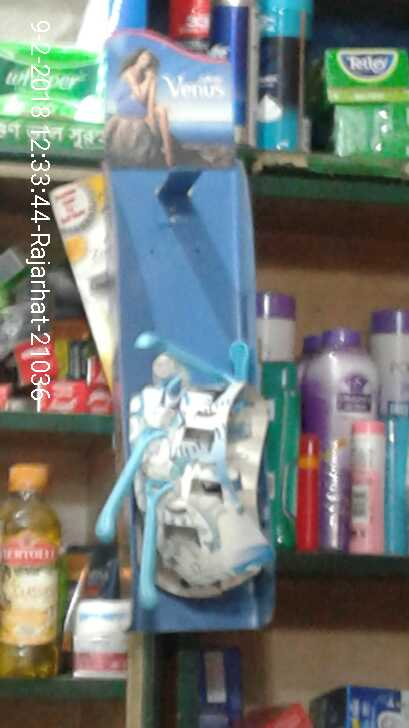reject: (229, 196, 321, 272)
